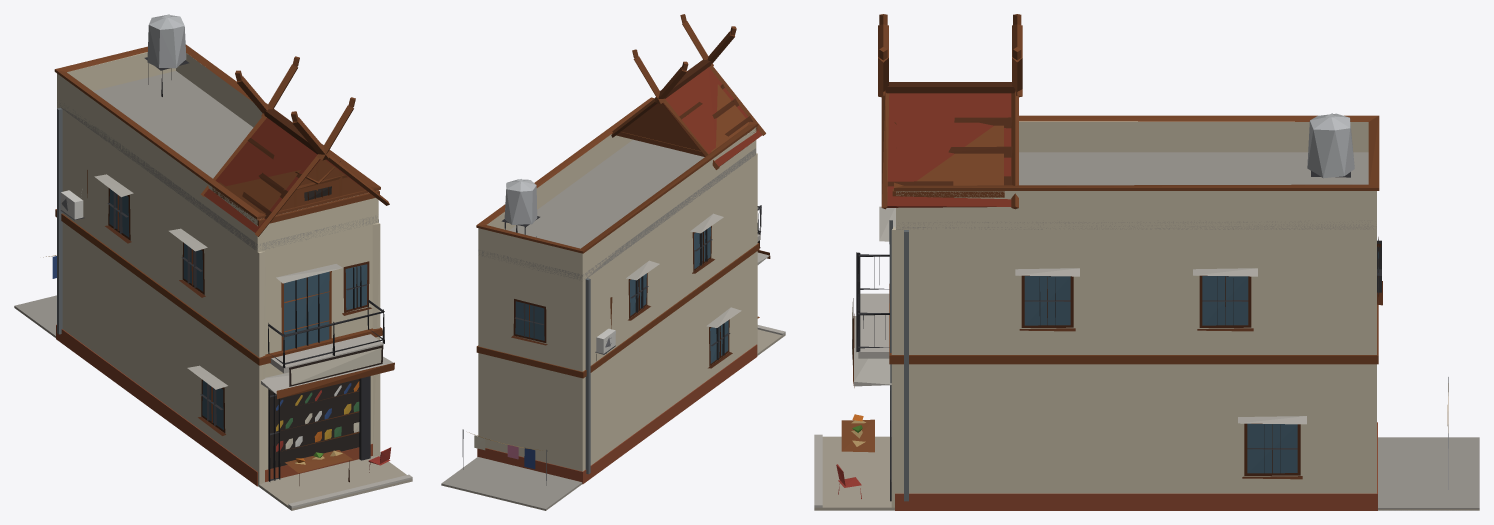
The model's file is bay1_one.glb.
3 views of the same model, side by side, from view 1: azimuth 30°, elevation 25°; view 2: azimuth 150°, elevation 25°; view 3: azimuth 270°, elevation 25° (orthographic). The views are drawn at different scales.
Parts seen in each view (by area): view 1: body, windows; view 2: body, windows; view 3: body, windows.
Boxes of the visible parts, <box> form: body: <box>14,14,412,510</box>; windows: <box>109,186,367,468</box>; body: <box>441,14,785,510</box>; windows: <box>515,226,728,363</box>; body: <box>814,14,1479,510</box>; windows: <box>1024,239,1378,473</box>.
Bounding box in the file's own units: 4.84 × 11.72 × 15.9.
